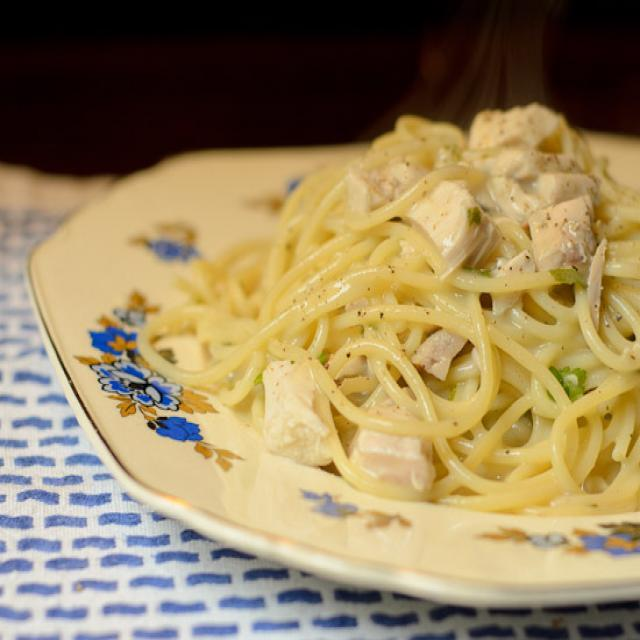Oil pasta: (209, 75, 639, 591)
